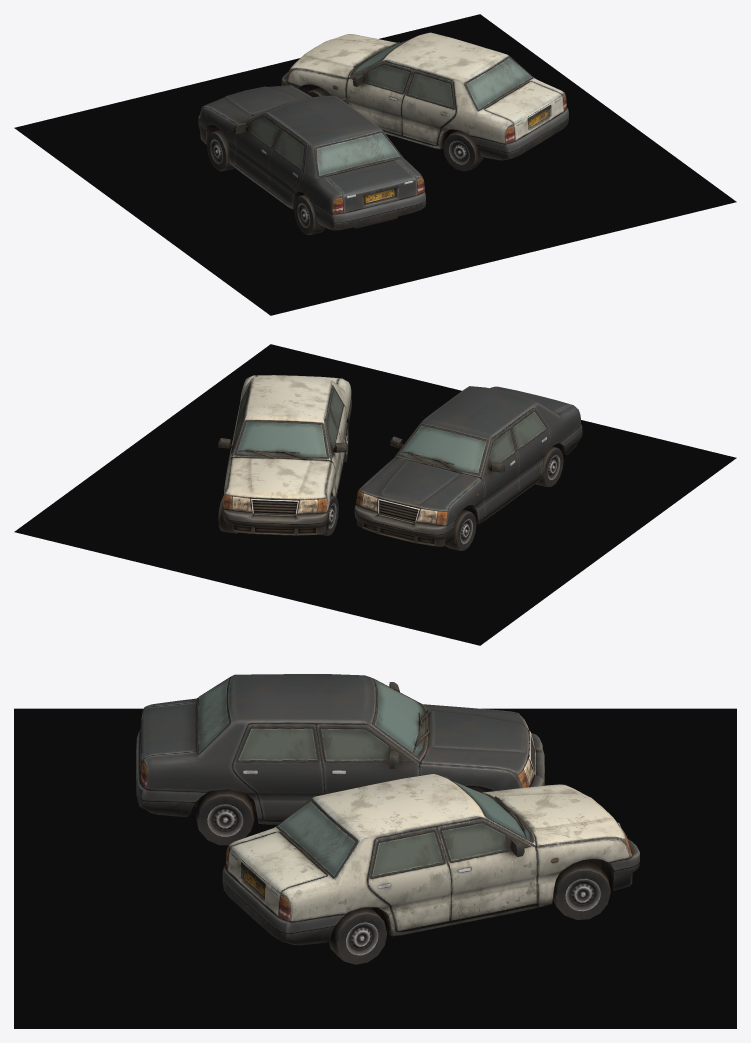
Rendered from generic_display.FBX.
3 renders of one model, top to bottom at view 1: azimuth 30°, elevation 25°; view 2: azimuth 150°, elevation 25°; view 3: azimuth 270°, elevation 25°, orthographic. The views are drawn at different scales.
Parts seen in each view (by area): view 1: Plane001, Box002, Box001, Object002, Object001; view 2: Plane001, Box001, Box002, Object001, Object002; view 3: Plane001, Box002, Box001, Object001, Object002.
Part boxes in pixels (left/top/right/bottom): Plane001: left=14, top=14, right=736, bottom=315; Box002: left=281, top=32, right=568, bottom=171; Box001: left=198, top=85, right=426, bottom=234; Object002: left=353, top=40, right=531, bottom=109; Object001: left=247, top=112, right=399, bottom=175; Plane001: left=14, top=344, right=736, bottom=645; Box001: left=354, top=386, right=582, bottom=550; Box002: left=218, top=375, right=351, bottom=535; Object001: left=400, top=412, right=545, bottom=472; Object002: left=234, top=387, right=342, bottom=457; Plane001: left=14, top=708, right=736, bottom=1028; Box002: left=222, top=774, right=639, bottom=964; Box001: left=136, top=674, right=544, bottom=845; Object001: left=198, top=679, right=424, bottom=760; Object002: left=278, top=781, right=529, bottom=875.
Size of the model in its own units: 468 by 82.91 by 447.
